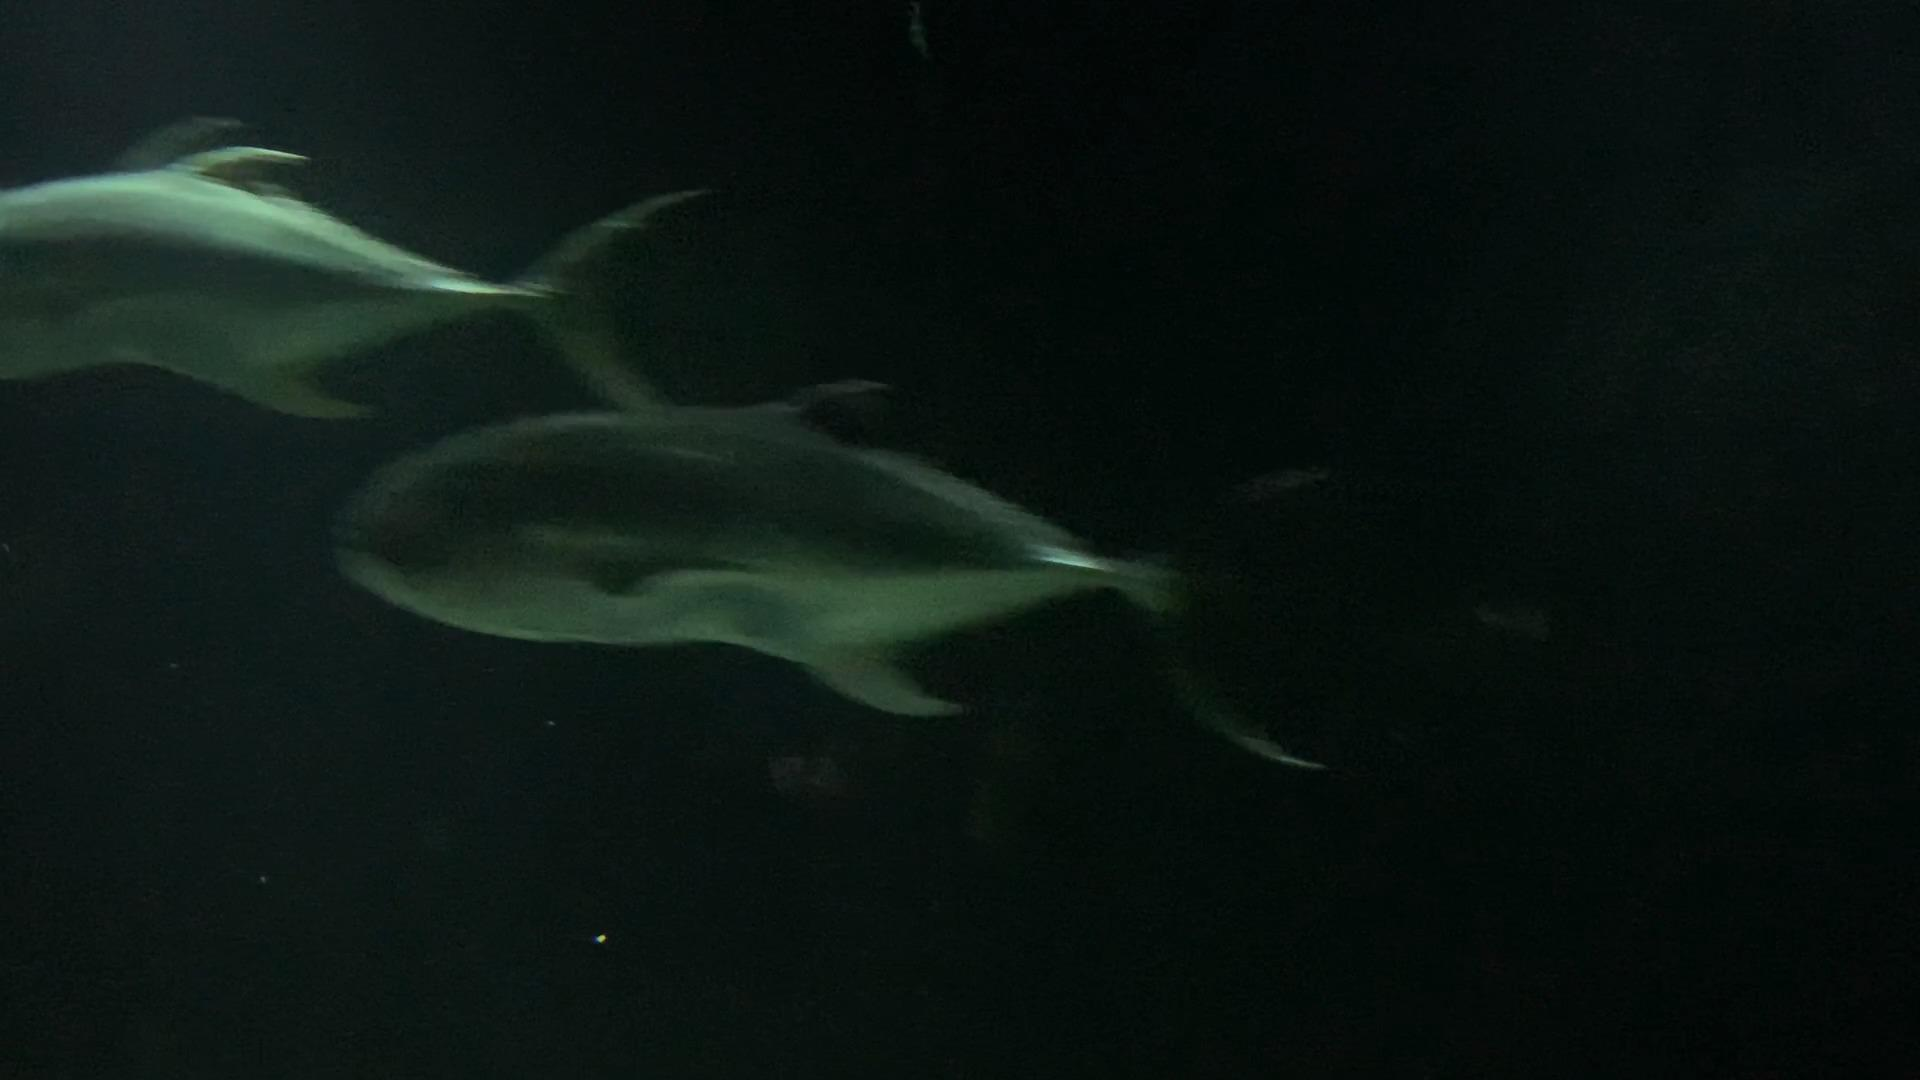fish: (328, 368, 1337, 785), (3, 142, 716, 455)
